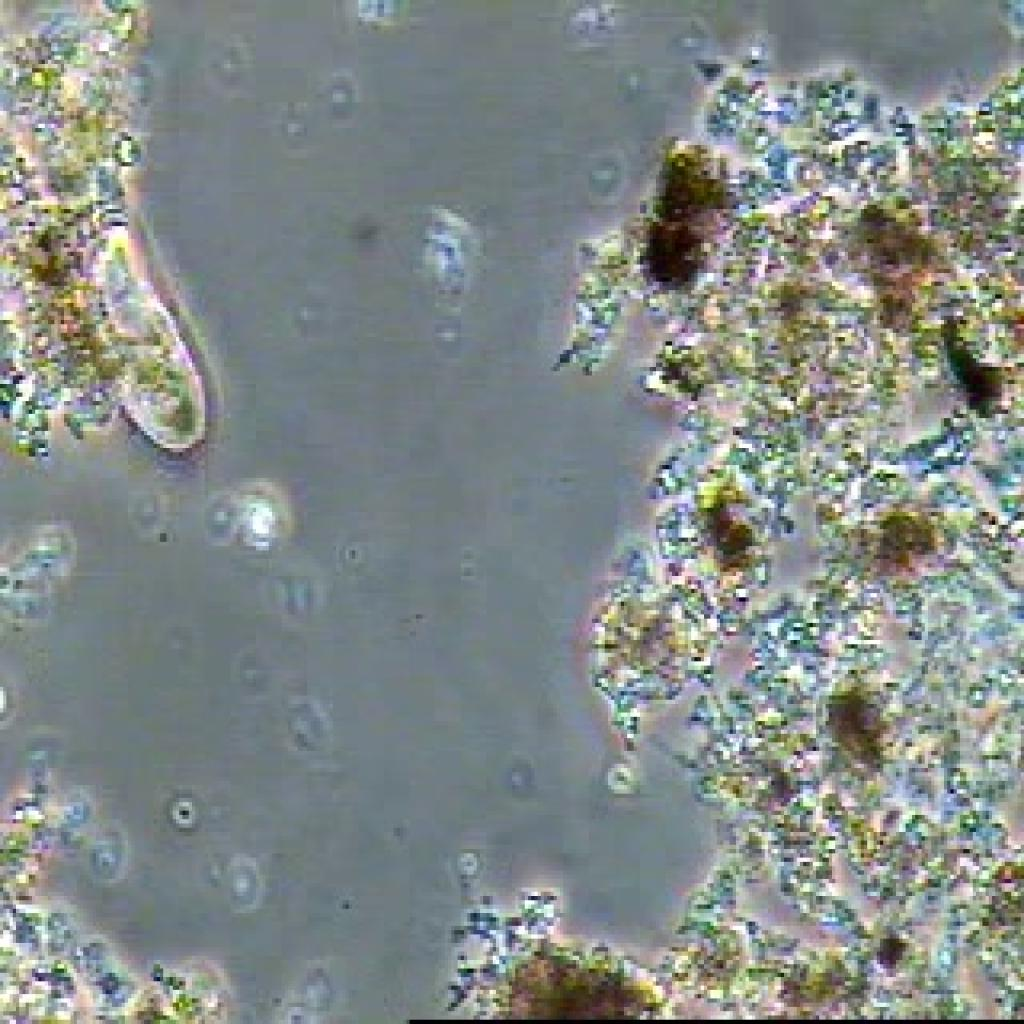Paramecium: (64, 220, 246, 467)
